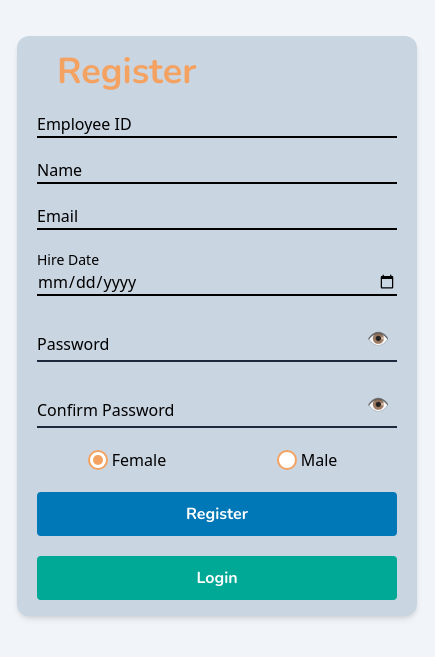
Scenario: Register Page tests › should display error for password fields under 6 characters
In the password field labelled "Password": (198, 346) [37,316,359,376], type "pass"
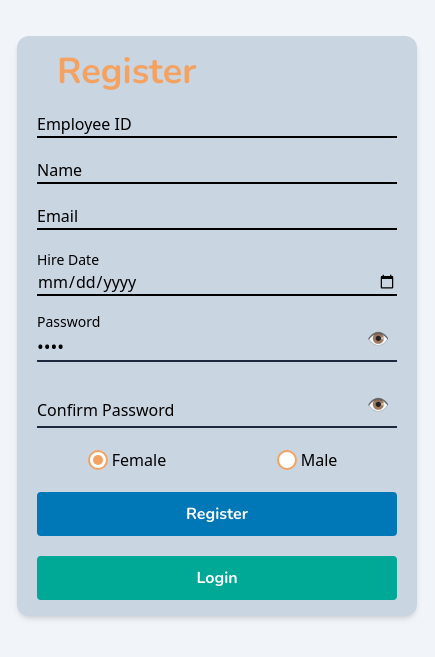
In the password field labelled "Confirm Password": (198, 412) [37,382,359,442], type "pass"
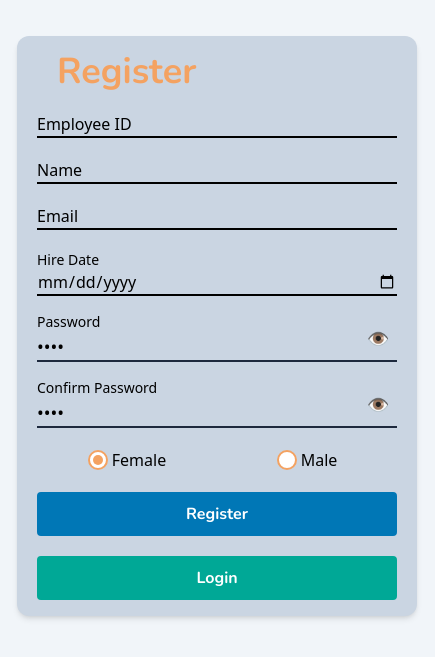
Click the button "Register": (217, 514) [37,492,397,536]
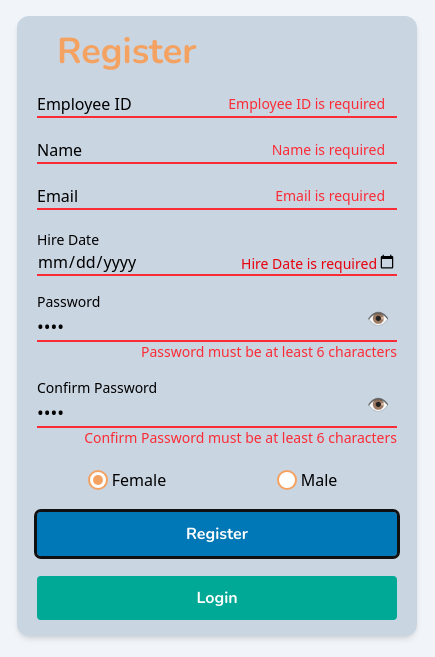
Result: the text "Password must be at least 6 characters" is shown at [141,342,397,361]
